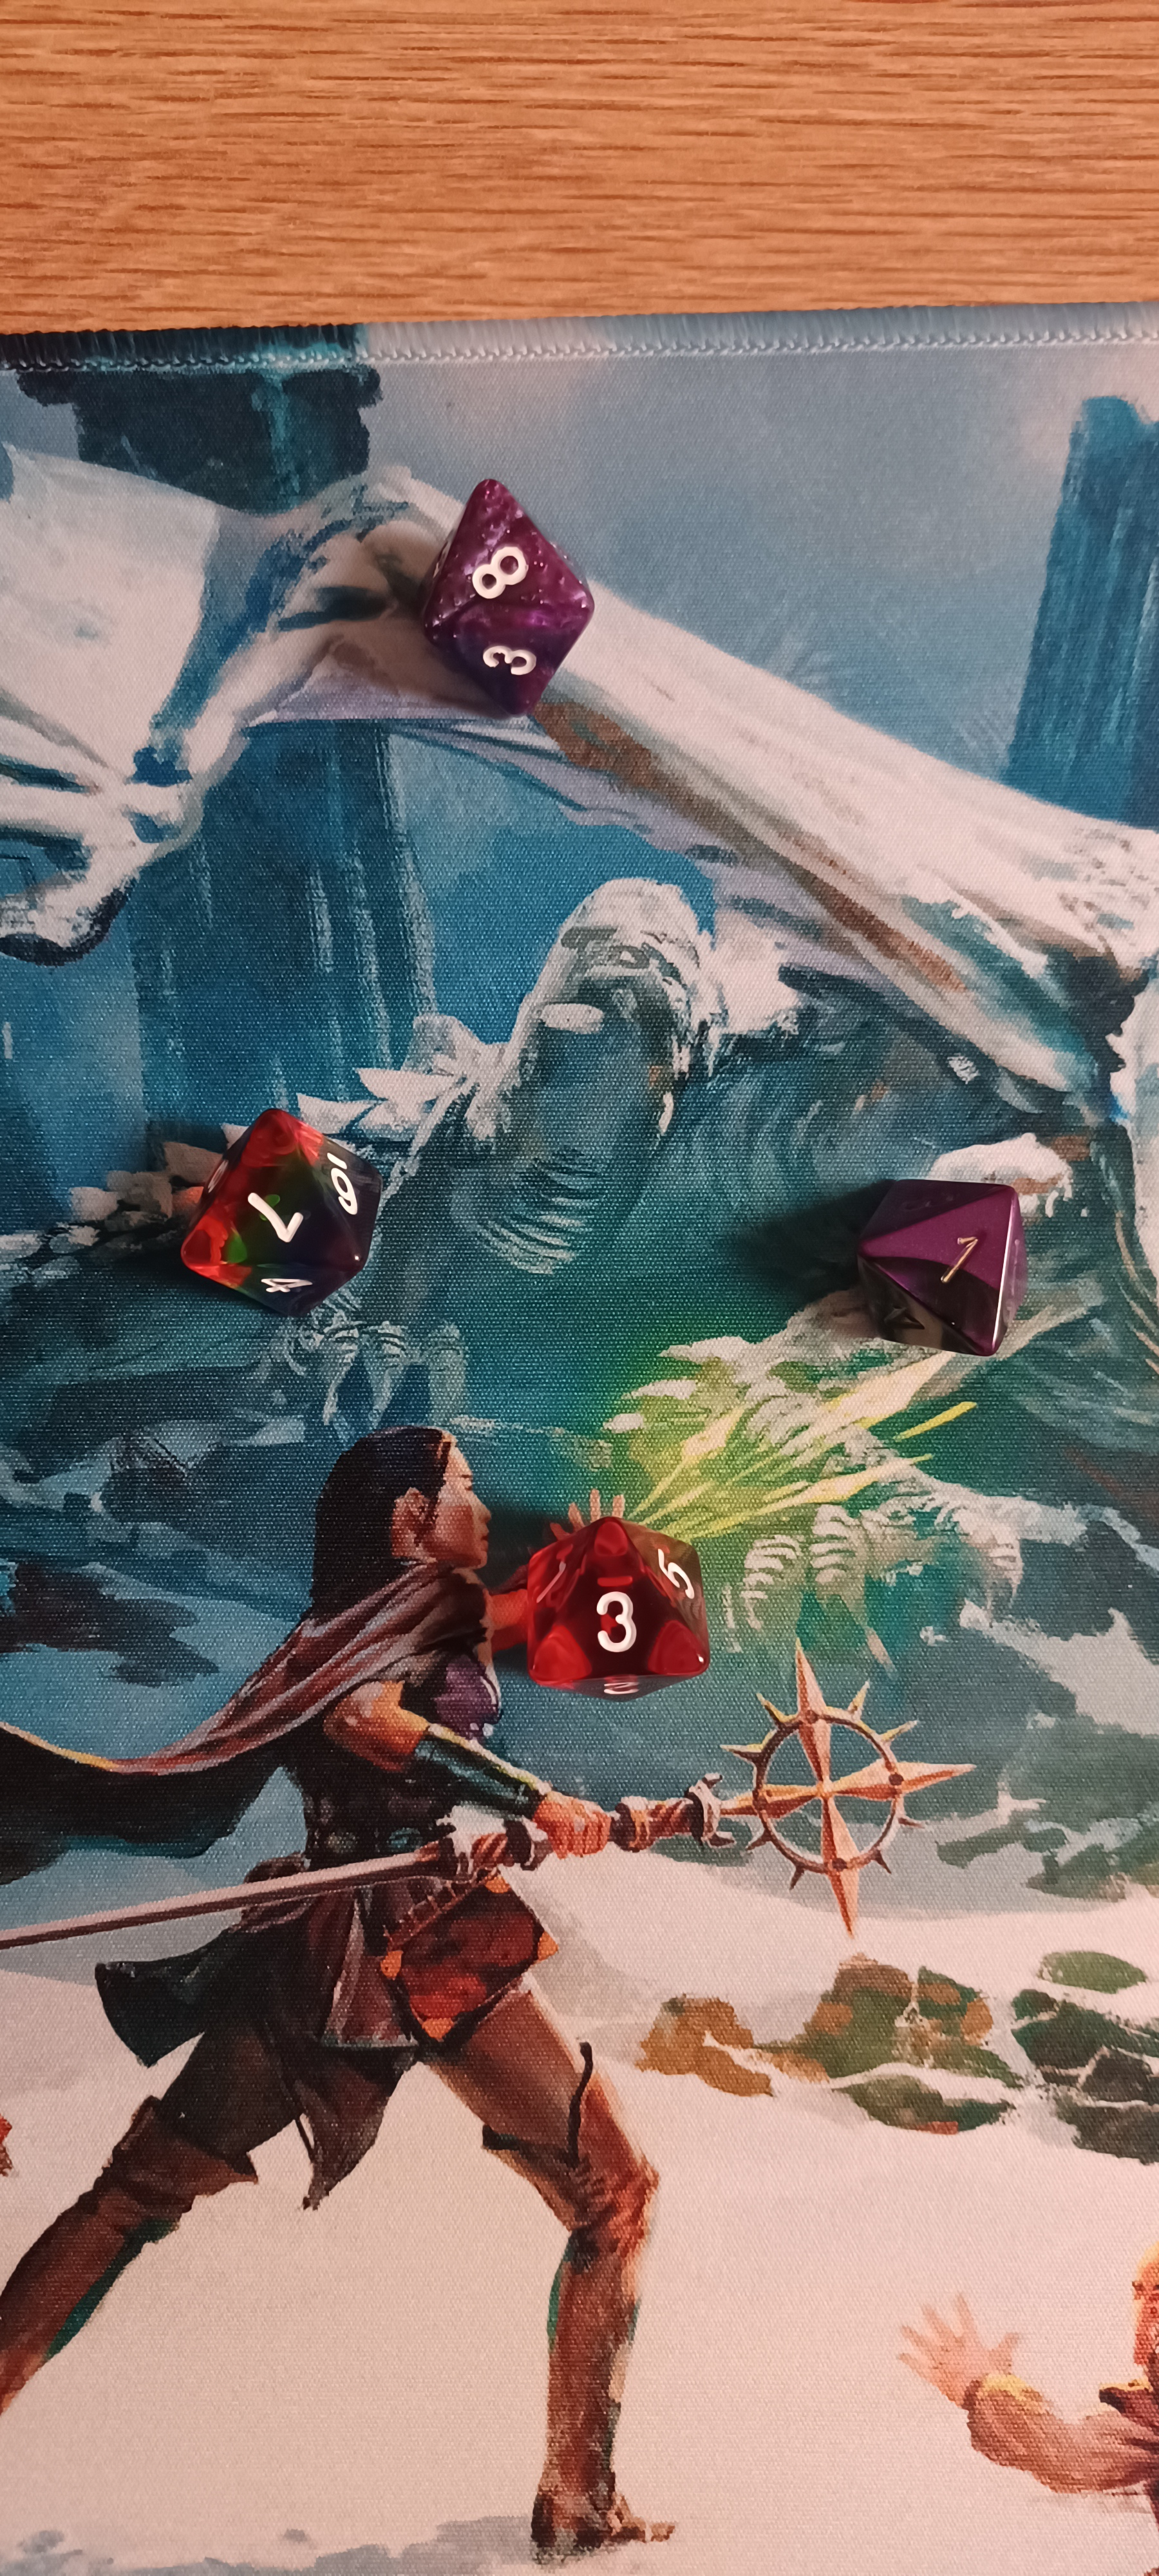eight: (361, 447, 667, 748)
one: (791, 1153, 1070, 1383)
seven: (143, 1058, 422, 1354)
three: (488, 1508, 749, 1713)
